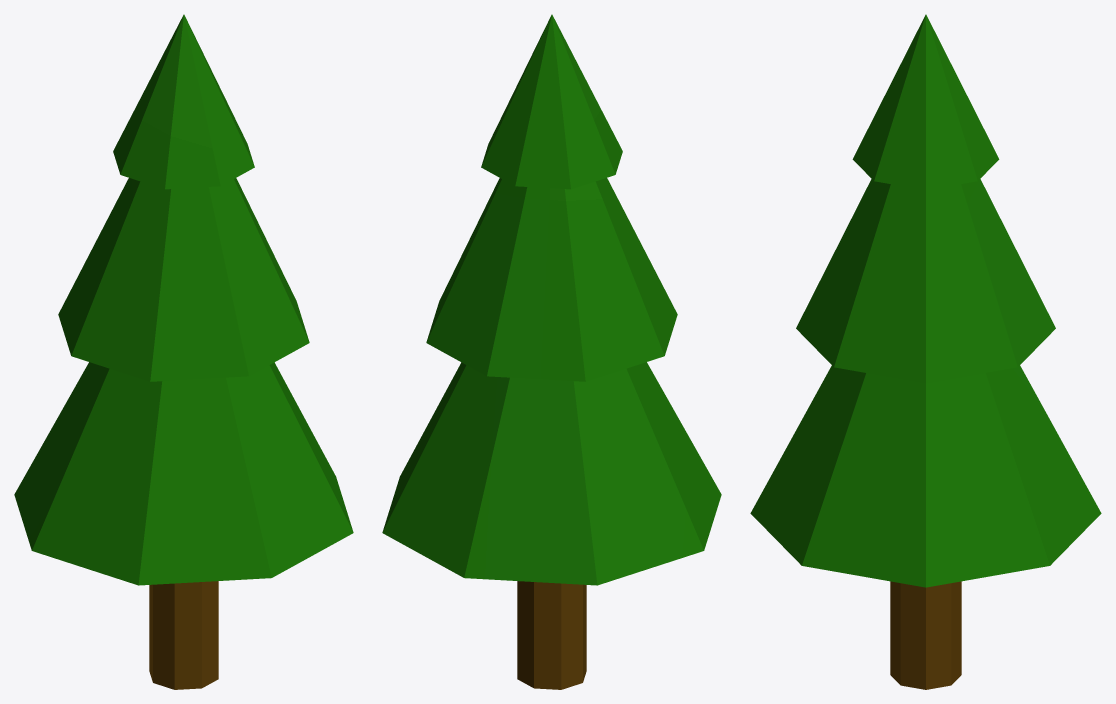
File: træ.obj
3 renders of one model, left to right at view 1: azimuth 30°, elevation 25°; view 2: azimuth 150°, elevation 25°; view 3: azimuth 270°, elevation 25°, orthographic.
Visible parts, largest first — view 1: Cylinder; view 2: Cylinder; view 3: Cylinder.
Boxes of the visible parts, <box> form: Cylinder: <box>14,14,353,689</box>; Cylinder: <box>382,14,721,689</box>; Cylinder: <box>750,14,1101,689</box>.
Size of the model in its own units: 9.81 by 20.38 by 9.81.
Materials: 1 (1 with a texture image).
